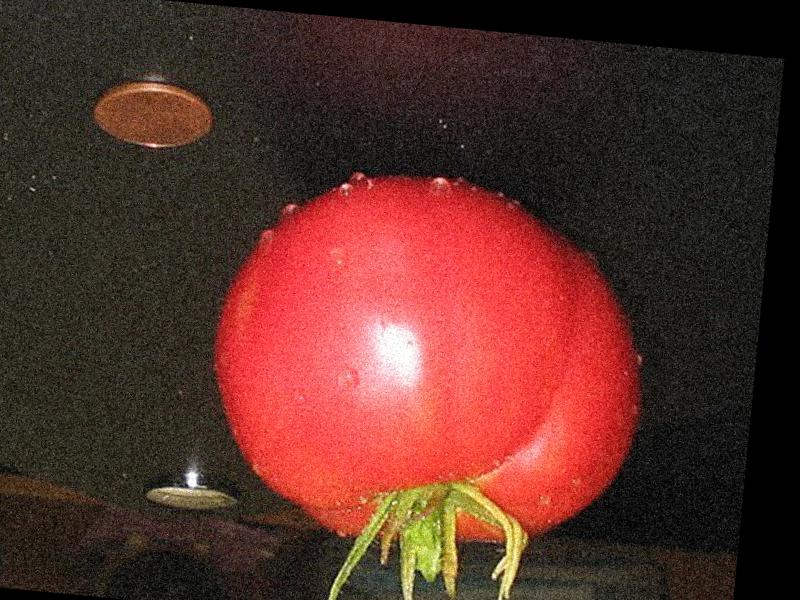Tomato: (199, 157, 662, 564)
